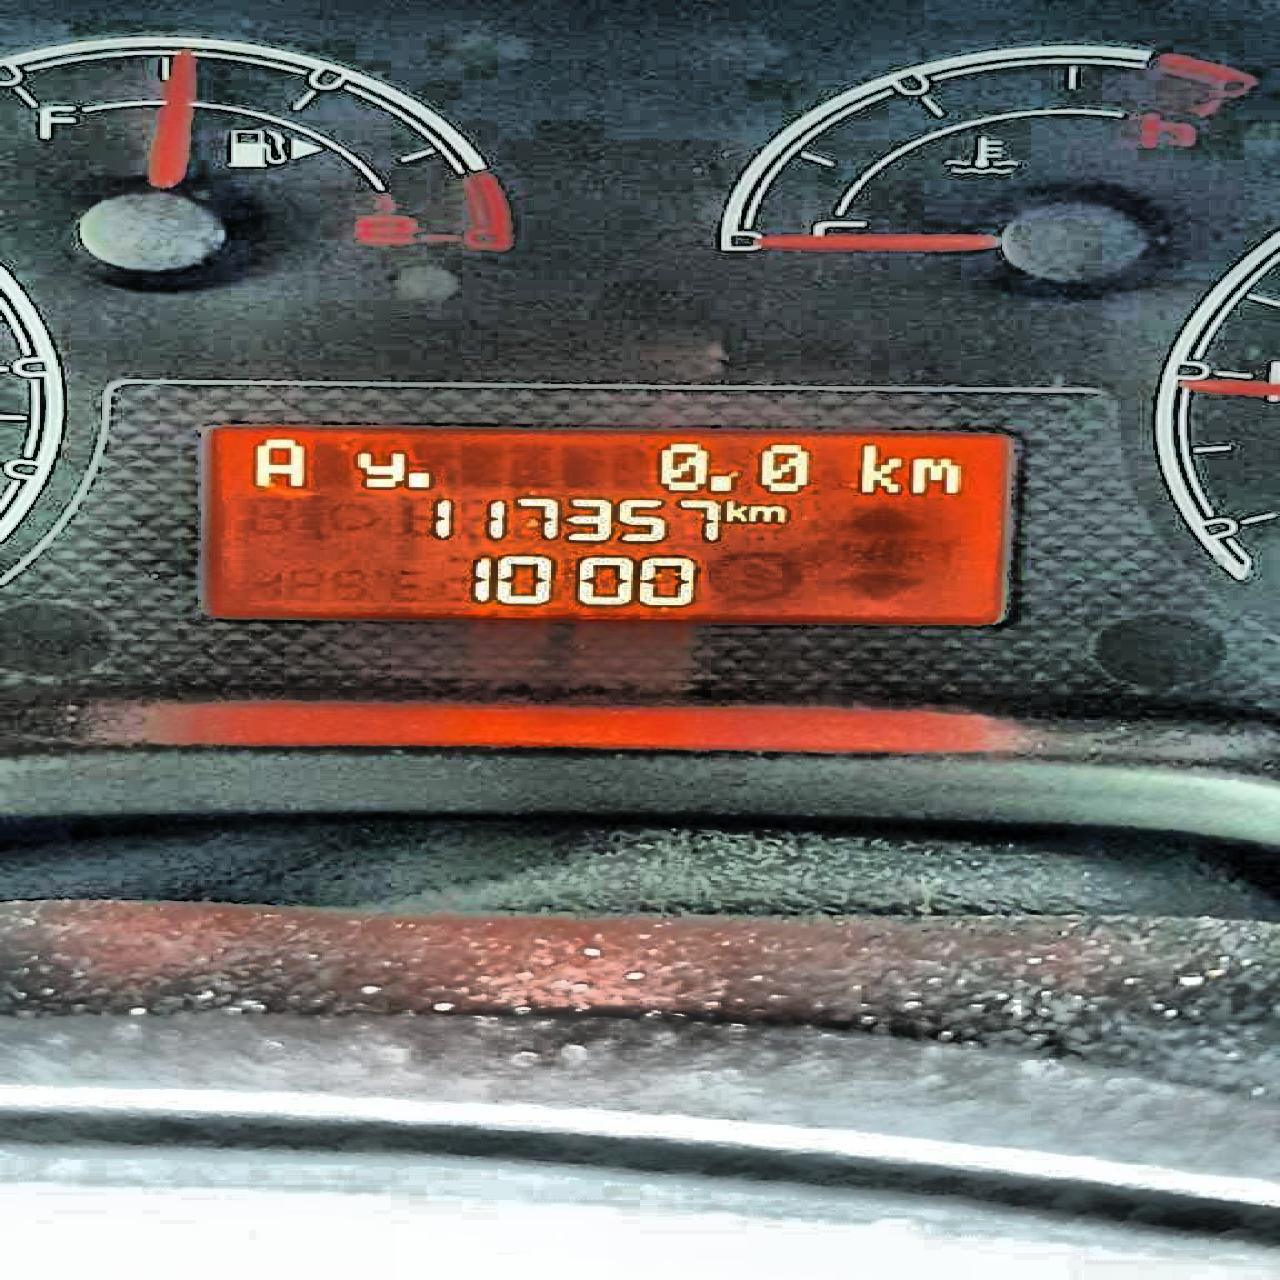-: (404, 468, 434, 490), (707, 471, 734, 493)
0: (491, 551, 556, 606), (635, 551, 697, 607), (571, 552, 635, 606), (753, 438, 811, 496), (649, 438, 707, 493)
1: (474, 495, 509, 542), (458, 554, 489, 604), (427, 496, 456, 543)
3: (561, 496, 611, 543)
5: (613, 496, 667, 544)
7: (511, 495, 560, 542), (670, 497, 720, 543)
X: (245, 434, 306, 489), (853, 440, 905, 496), (349, 445, 404, 489), (907, 452, 960, 497), (744, 503, 784, 524), (720, 497, 744, 523)
odometer: (184, 414, 1020, 633)
